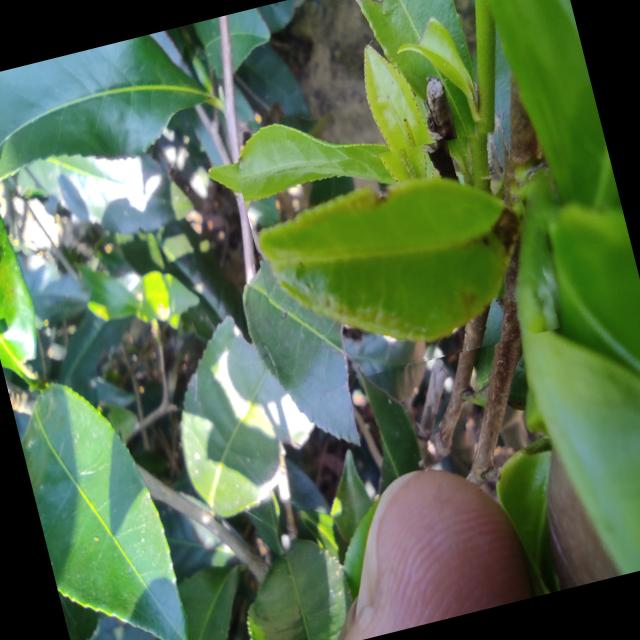Category C(4-7 days): (238, 112, 560, 393)
